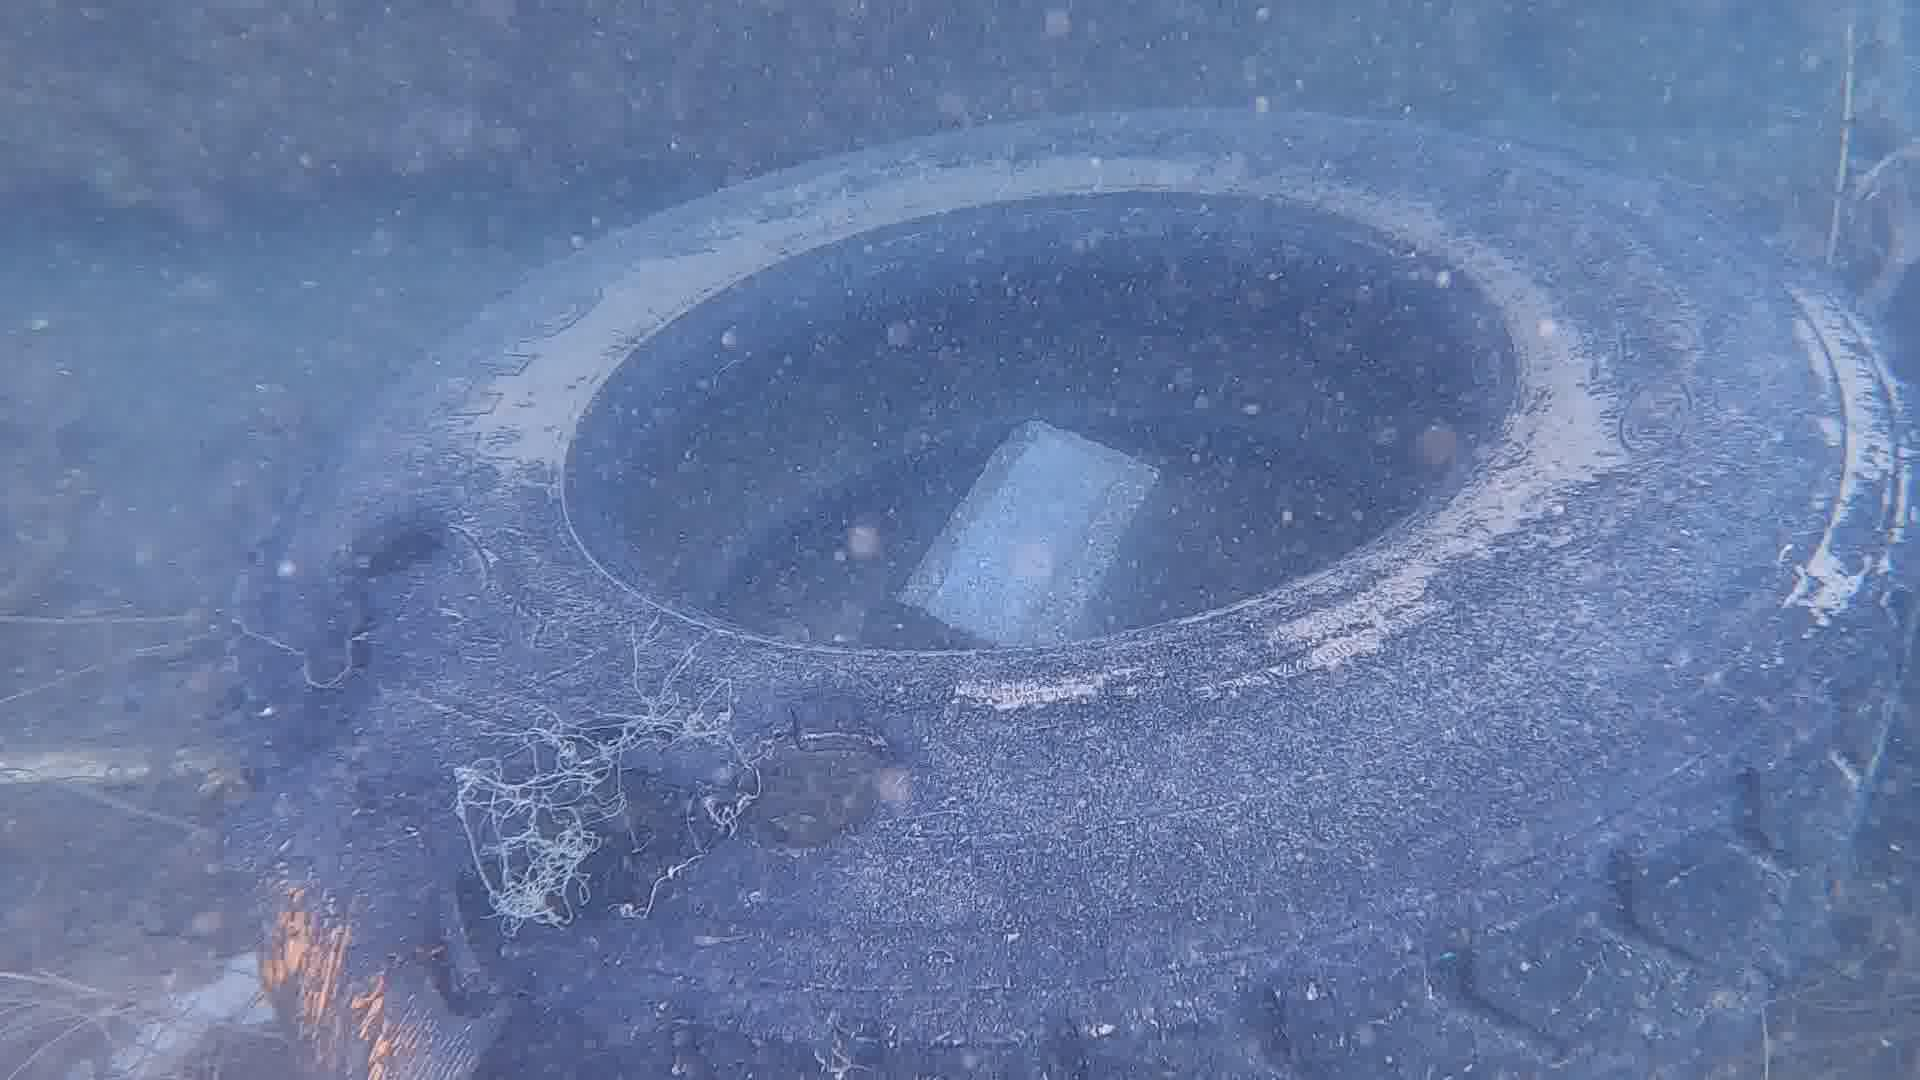tire: (241, 103, 1920, 1080)
